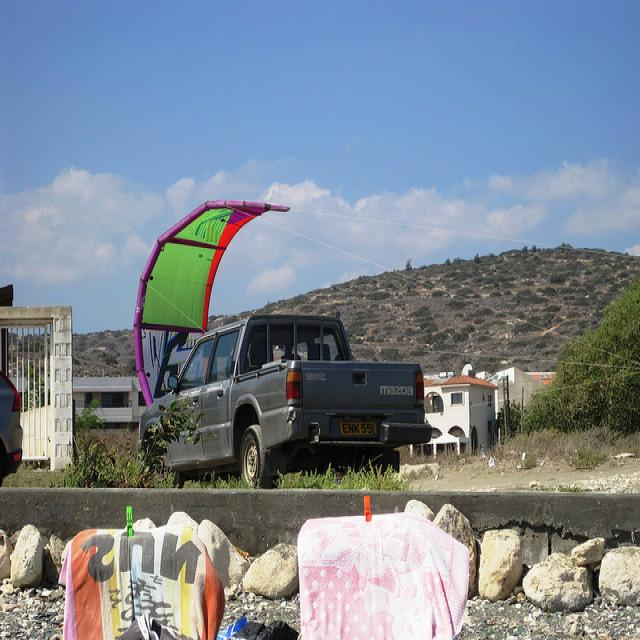Vehicle: (142, 316, 434, 492), (0, 368, 22, 485)
